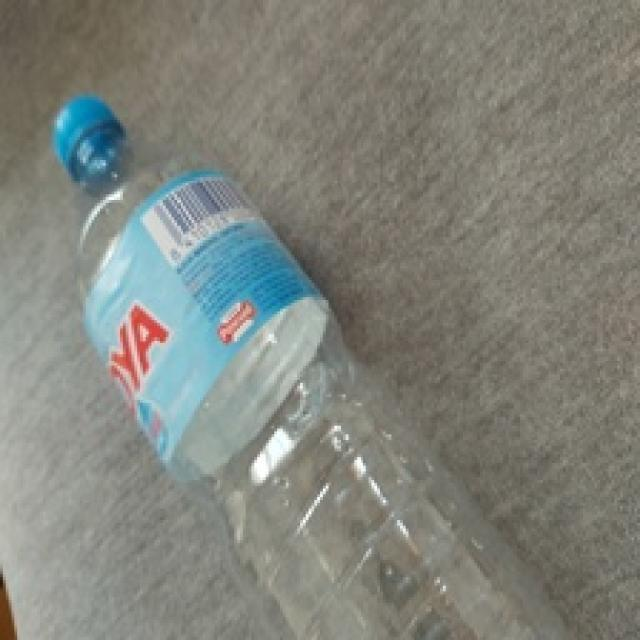Plastic: (44, 87, 581, 640)
